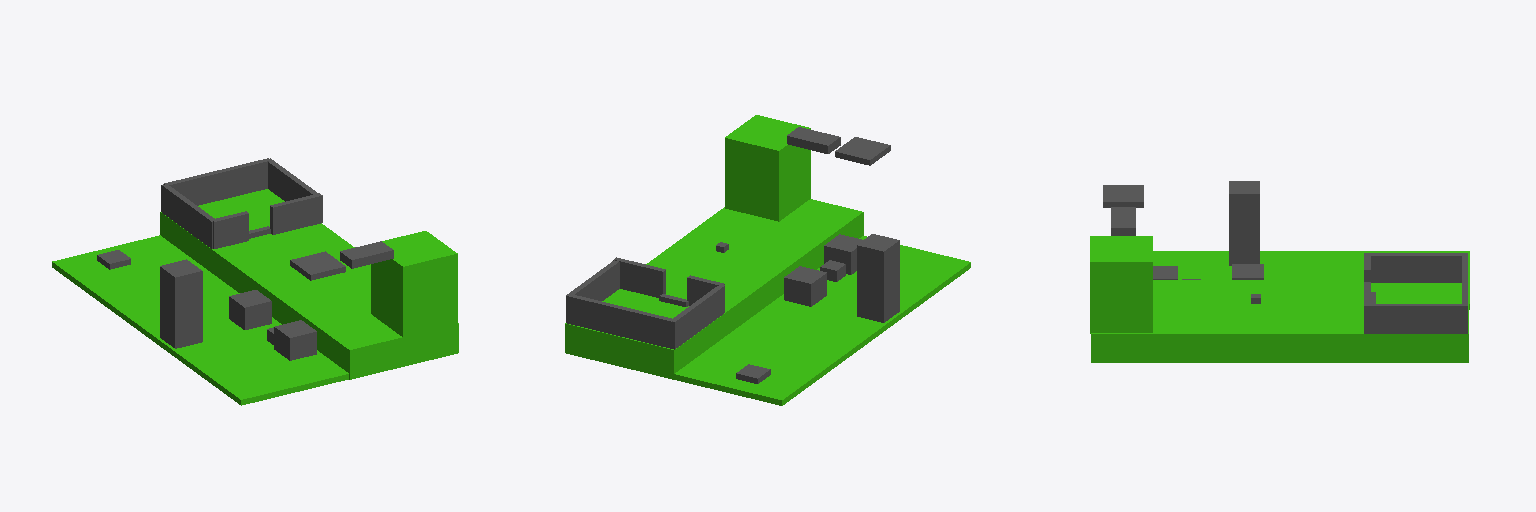
The picture shows the model from 3 angles: view 1: azimuth 30°, elevation 25°; view 2: azimuth 150°, elevation 25°; view 3: azimuth 270°, elevation 25°; orthographic projection.
Visible parts, largest first — view 1: 立方体.013; view 2: 立方体.013; view 3: 立方体.013.
Boxes of the visible parts, <box> form: 立方体.013: <box>52,158,458,405</box>; 立方体.013: <box>565,115,970,405</box>; 立方体.013: <box>1090,181,1469,362</box>.
Size of the model in its own units: 79.96 by 38.17 by 120.
1 materials, 1 textured.